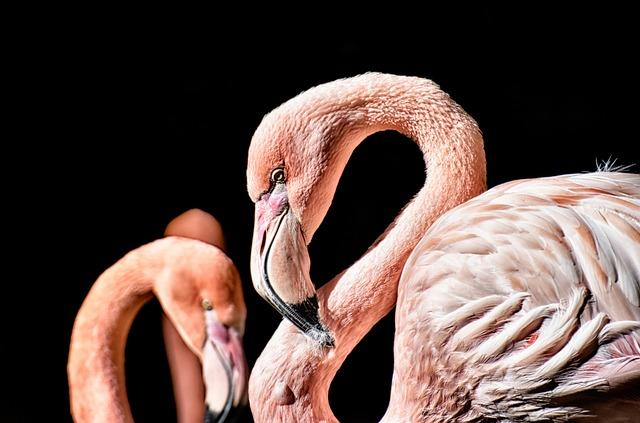bird: (247, 73, 639, 422), (68, 210, 245, 422)
